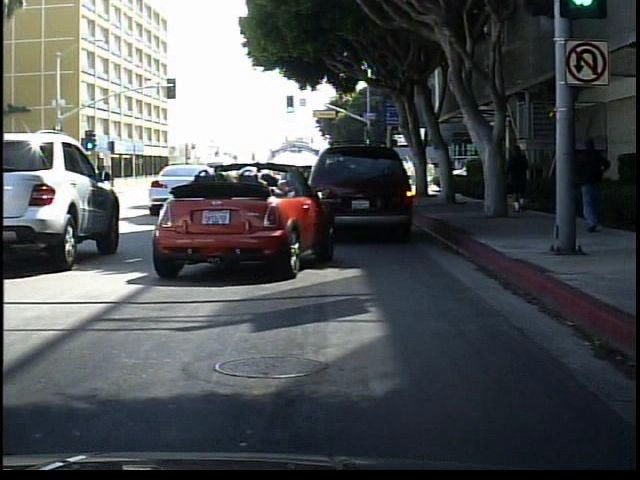person: (572, 131, 620, 238), (503, 141, 533, 214)
